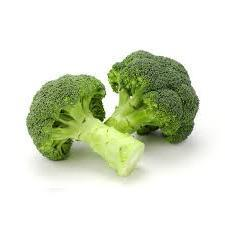broccoli: (25, 73, 145, 176), (104, 49, 199, 144)
